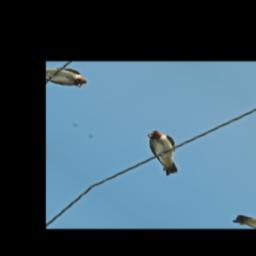Swallow: (125, 127, 201, 178)
